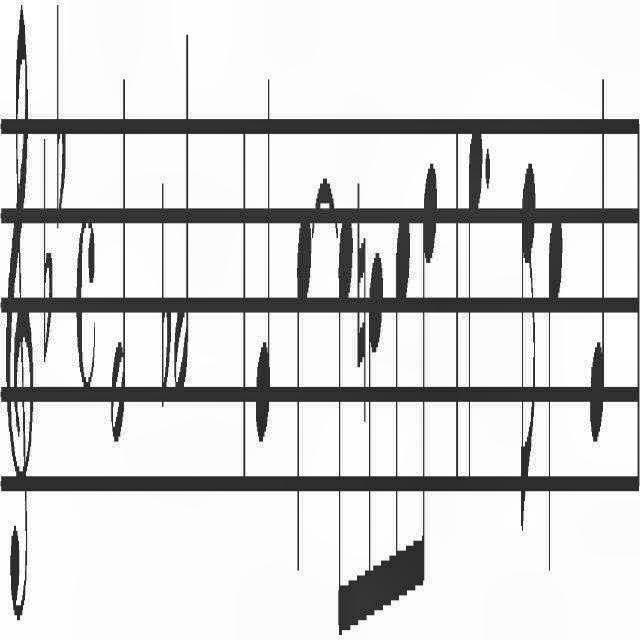Bass-clef: (5, 4, 35, 632)
Bemol: (42, 128, 54, 376), (54, 0, 66, 248), (160, 172, 172, 420)
Eighth-note: (414, 162, 438, 626), (390, 193, 412, 622), (338, 188, 354, 636), (367, 246, 385, 626), (520, 157, 536, 538)
Half-note: (109, 63, 127, 465), (173, 11, 191, 406)
Quarter-note: (254, 68, 272, 452), (546, 200, 564, 580), (590, 60, 606, 452), (468, 112, 484, 502), (296, 198, 312, 582)
